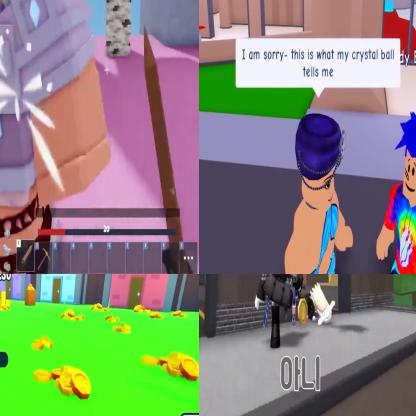Roblox-Avatar: (1, 1, 113, 274), (285, 114, 354, 274), (376, 106, 416, 274), (255, 275, 302, 349)
